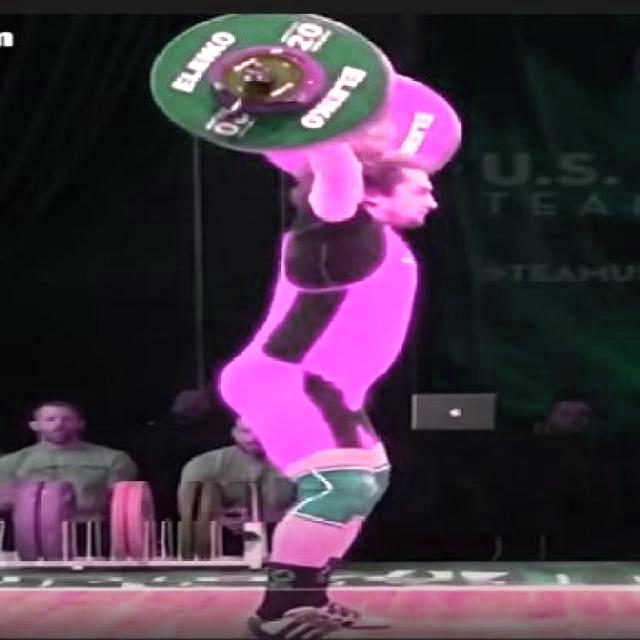barbell: (141, 13, 405, 160)
